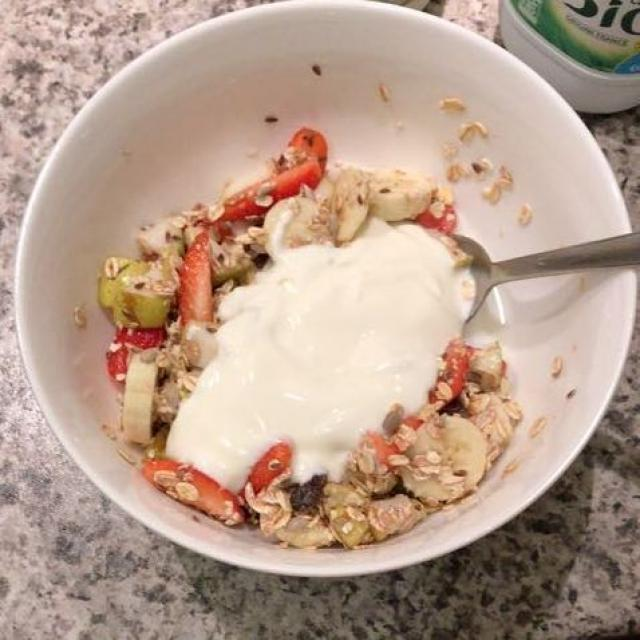birchermuesli: (110, 140, 515, 535)
